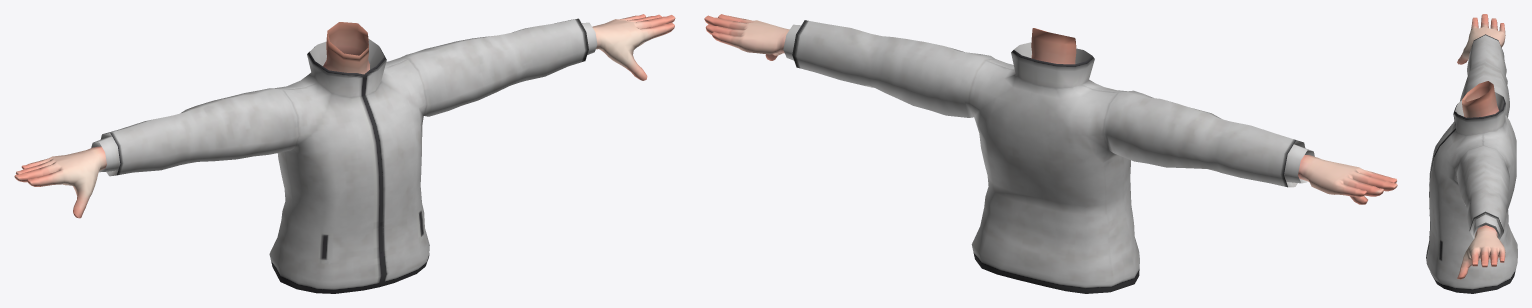
The model's file is tr0760_00_upb02.gltf.
3 renders of one model, left to right at view 1: azimuth 30°, elevation 25°; view 2: azimuth 150°, elevation 25°; view 3: azimuth 270°, elevation 25°, orthographic. The views are drawn at different scales.
Parts seen in each view (by area): view 1: upb02_upperbody_mesh_shape:upperbody02, upb02_upperbodyskin_mesh_shape:upperbody02_skin; view 2: upb02_upperbody_mesh_shape:upperbody02, upb02_upperbodyskin_mesh_shape:upperbody02_skin; view 3: upb02_upperbody_mesh_shape:upperbody02, upb02_upperbodyskin_mesh_shape:upperbody02_skin.
Part boxes in pixels (x1,y1,x2,y2): upb02_upperbody_mesh_shape:upperbody02: (91, 18, 597, 293); upb02_upperbodyskin_mesh_shape:upperbody02_skin: (14, 14, 675, 218); upb02_upperbody_mesh_shape:upperbody02: (783, 20, 1314, 293); upb02_upperbodyskin_mesh_shape:upperbody02_skin: (704, 14, 1397, 204); upb02_upperbody_mesh_shape:upperbody02: (1426, 34, 1517, 293); upb02_upperbodyskin_mesh_shape:upperbody02_skin: (1457, 14, 1505, 279).
Size of what is drawn, in the model's own units: 1.63 by 0.5579 by 0.252.
2 materials, 2 textured.
